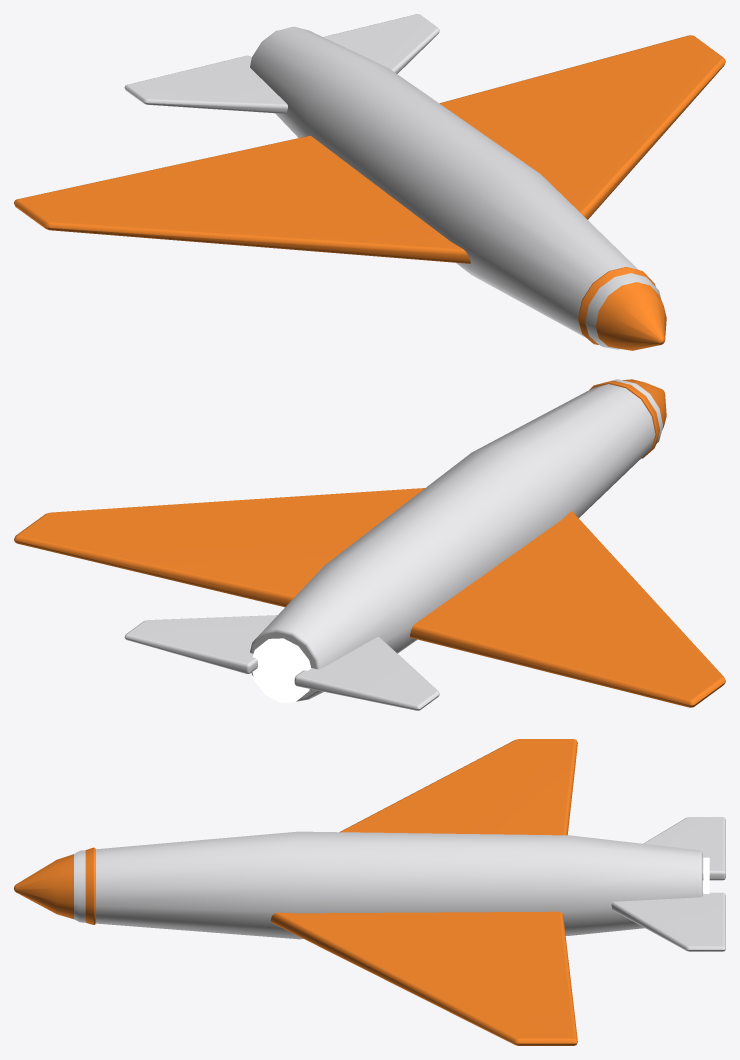
Rendered from NPC_TargetDrone.fbx.
3 renders of one model, top to bottom at view 1: azimuth 30°, elevation 25°; view 2: azimuth 150°, elevation 25°; view 3: azimuth 270°, elevation 25°, orthographic. The views are drawn at different scales.
Parts seen in each view (by area): view 1: Markings.002, Body.003; view 2: Markings.002, Body.003, Glow.003; view 3: Body.003, Markings.002.
Part boxes in pixels (x1=…): Markings.002: x1=14, y1=35, x2=725, y2=350; Body.003: x1=124, y1=14, x2=660, y2=349; Markings.002: x1=14, y1=379, x2=725, y2=707; Body.003: x1=124, y1=379, x2=662, y2=710; Glow.003: x1=252, y1=638, x2=310, y2=702; Body.003: x1=74, y1=817, x2=725, y2=951; Markings.002: x1=14, y1=739, x2=577, y2=1045.
Bounding box in the file's own units: 9.2 × 1.35 × 9.15.
